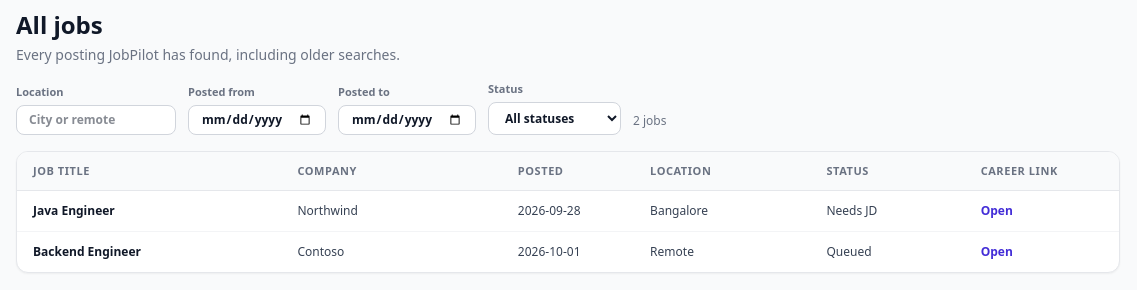
Test: JobsPage › lists searched jobs and filters by status
Check: the text "Java Engineer" is shown, box [17,191,282,232]
Check: the text "Northwind" is shown, box [282,191,502,232]
Select "Needs JD" in the dropdown named "Filter by status": (554, 118) [488,102,621,134]
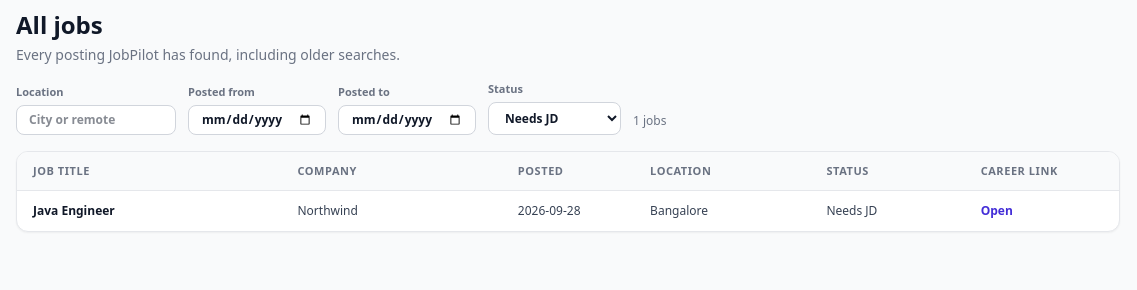
Check: the text "Backend Engineer" is gone
